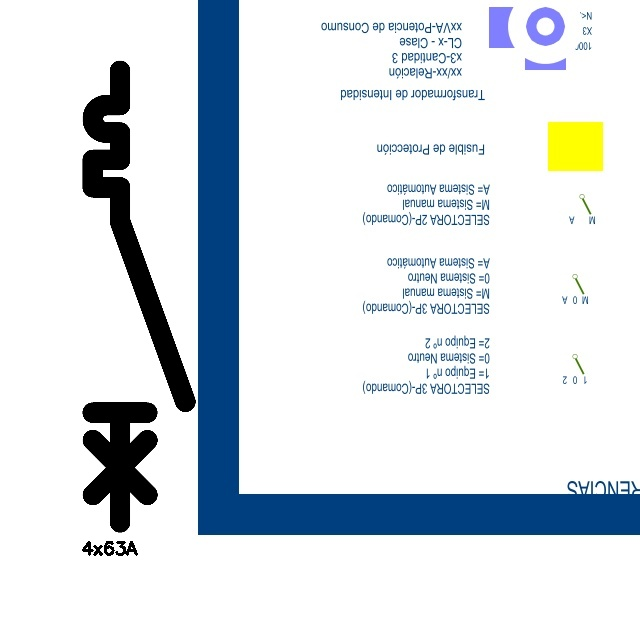interruptor_termomagnetico: (81, 59, 197, 534)
